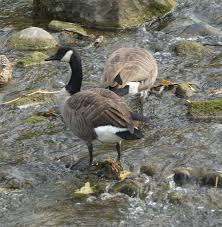goose: (44, 46, 147, 171), (94, 46, 159, 100)
